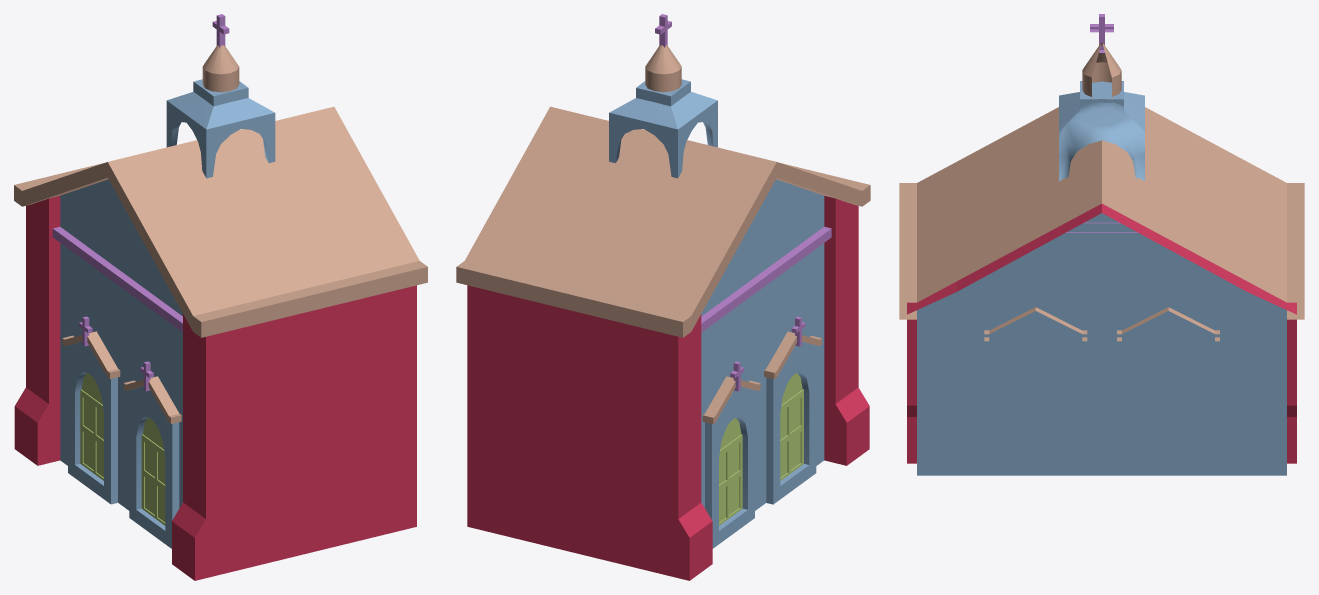
File: Church1.fbx
3 views of the same model, side by side, from view 1: azimuth 30°, elevation 25°; view 2: azimuth 150°, elevation 25°; view 3: azimuth 270°, elevation 25° (orthographic). The views are drawn at different scales.
Parts seen in each view (by area): view 1: Church; view 2: Church; view 3: Church.
Boxes of the visible parts, <box> form: Church: <box>14,14,427,580</box>; Church: <box>456,14,870,580</box>; Church: <box>899,14,1304,475</box>.
Bounding box in the file's own units: 196 × 384 × 277.
